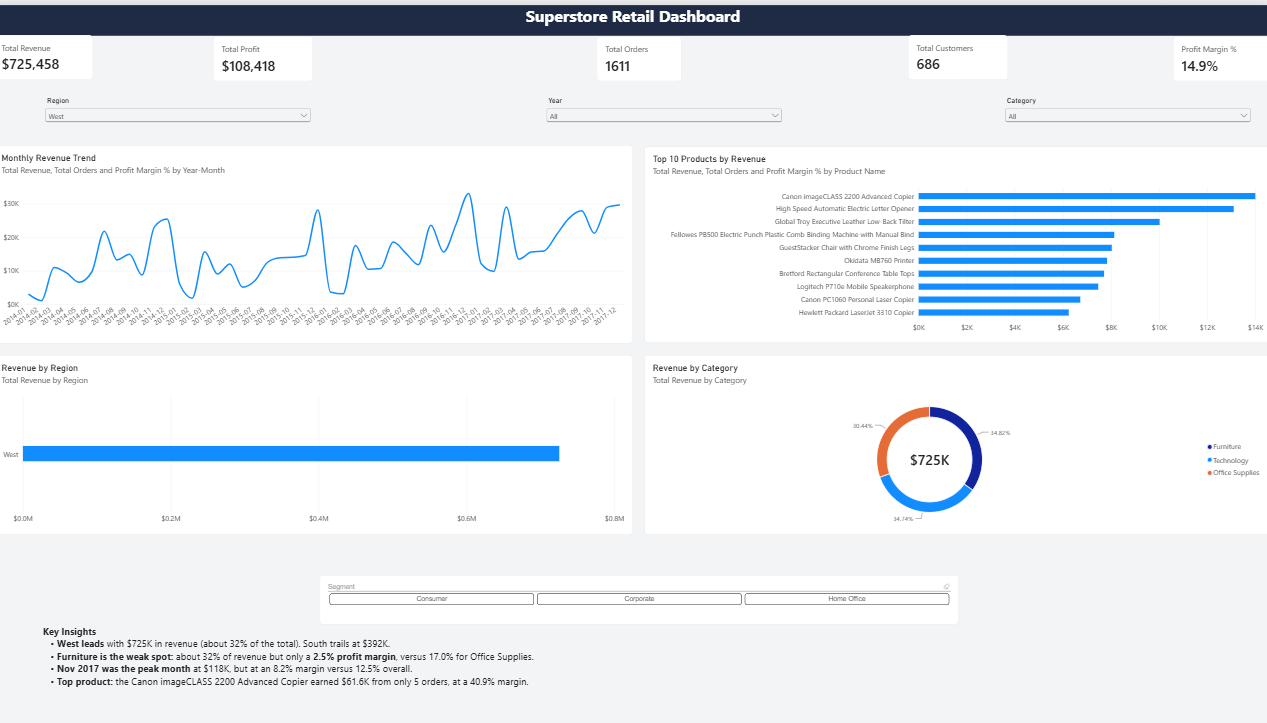

Layout of this report page (visuals, bound fields, positions):
{"tool":"powerbi","page":{"name":"Overview","canvas":[2560,1440],"ordinal":0},"visuals":[{"type":"shape","box":[0,0,2560,61.5],"z":0},{"type":"textbox","box":[0,0,2560,69.7],"z":1000},{"type":"cardVisual","fields":{"Data":["Measures (2).Total Profit"]},"box":[439.1,62.7,200,90],"z":2000},{"type":"cardVisual","fields":{"Data":["Measures (2).Total Revenue"]},"box":[0,60.3,200,90],"z":3000},{"type":"cardVisual","fields":{"Data":["Measures (2).Total Customers"]},"box":[1829,60.3,200,90],"z":4000},{"type":"cardVisual","fields":{"Data":["Measures (2).Total Orders"]},"box":[1206.4,62.7,170,90],"z":5000},{"type":"cardVisual","fields":{"Data":["Measures (2).Profit Margin %"]},"box":[2359,61.5,200,90],"z":6000},{"type":"lineChart","title":"Monthly Revenue Trend","fields":{"Category":["DateTable.Year-Month"],"Y":["Measures (2).Total Revenue"]},"box":[0,280,1280,396.7],"z":7000},{"type":"clusteredBarChart","title":"Top 10 Products by Revenue","fields":{"Category":["Sales.Product Name"],"Y":["Measures (2).Total Revenue"]},"box":[1303.3,283.3,1255.4,393.8],"z":8000},{"type":"clusteredBarChart","title":"Revenue by Region","fields":{"Category":["Sales.Region"],"Y":["Measures (2).Total Revenue"]},"box":[0,700,1280,360],"z":9000},{"type":"donutChart","title":"Revenue by Category","fields":{"Category":["Sales.Category"],"Y":["Measures (2).Total Revenue"]},"box":[1303.3,700,1256.7,360],"z":10000},{"type":"slicer","fields":{"Values":["Sales.Region"]},"box":[100,183.3,540,83.3],"z":11000},{"type":"slicer","fields":{"Values":["Sales.Category"]},"box":[2020,183.3,500,53.3],"z":12000},{"type":"slicer","fields":{"Values":["DateTable.Year"]},"box":[1103.3,183.3,480,106.7],"z":13000},{"type":"ChicletSlicer1448559807354","fields":{"Category":["Sales.Segment"]},"box":[652.6,1140,1279,99.6],"z":14000},{"type":"textbox","box":[100,1240,1275,200],"z":14002}]}

Visuals, with their boxes in screenshot pixels (x1, y1, x2, y2), scaled from the page's 2560x1440 canvas onto the 1267x723 screenshot:
shape: <bbox>0, 0, 1266, 31</bbox>
textbox: <bbox>0, 0, 1266, 35</bbox>
cardVisual - Measures (2).Total Profit: <bbox>217, 31, 316, 77</bbox>
cardVisual - Measures (2).Total Revenue: <bbox>0, 30, 99, 75</bbox>
cardVisual - Measures (2).Total Customers: <bbox>905, 30, 1004, 75</bbox>
cardVisual - Measures (2).Total Orders: <bbox>597, 31, 681, 77</bbox>
cardVisual - Measures (2).Profit Margin %: <bbox>1168, 31, 1266, 76</bbox>
"Monthly Revenue Trend" lineChart: <bbox>0, 141, 634, 340</bbox>
"Top 10 Products by Revenue" clusteredBarChart: <bbox>645, 142, 1266, 340</bbox>
"Revenue by Region" clusteredBarChart: <bbox>0, 351, 634, 532</bbox>
"Revenue by Category" donutChart: <bbox>645, 351, 1266, 532</bbox>
slicer - Sales.Region: <bbox>49, 92, 317, 134</bbox>
slicer - Sales.Category: <bbox>1000, 92, 1247, 119</bbox>
slicer - DateTable.Year: <bbox>546, 92, 784, 146</bbox>
ChicletSlicer1448559807354 - Sales.Segment: <bbox>323, 572, 956, 622</bbox>
textbox: <bbox>49, 623, 681, 722</bbox>
